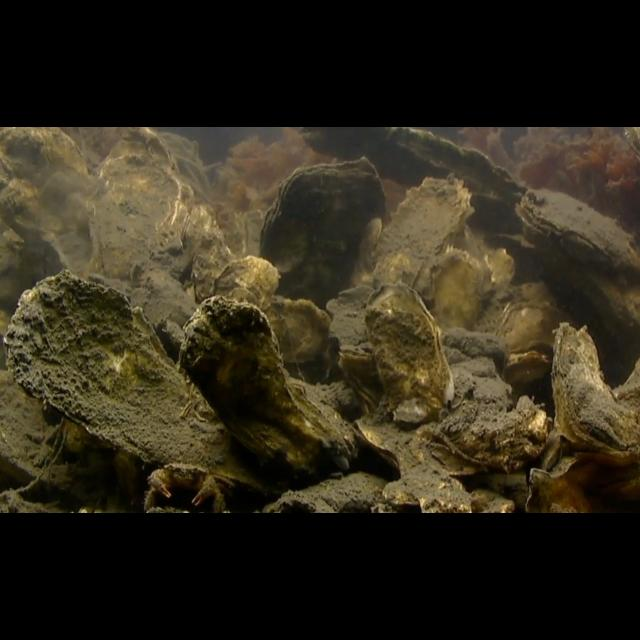Oyster-Closed: (5, 267, 229, 471), (178, 295, 348, 481), (257, 154, 387, 312), (84, 126, 184, 280), (551, 323, 640, 461), (366, 280, 454, 418), (0, 127, 92, 247), (437, 395, 551, 469), (260, 297, 330, 363), (428, 247, 482, 331), (210, 254, 280, 314), (497, 300, 571, 354)
Oyster-Open: (296, 127, 532, 230), (370, 170, 476, 302), (349, 414, 473, 514), (514, 190, 640, 280), (502, 340, 552, 406)
